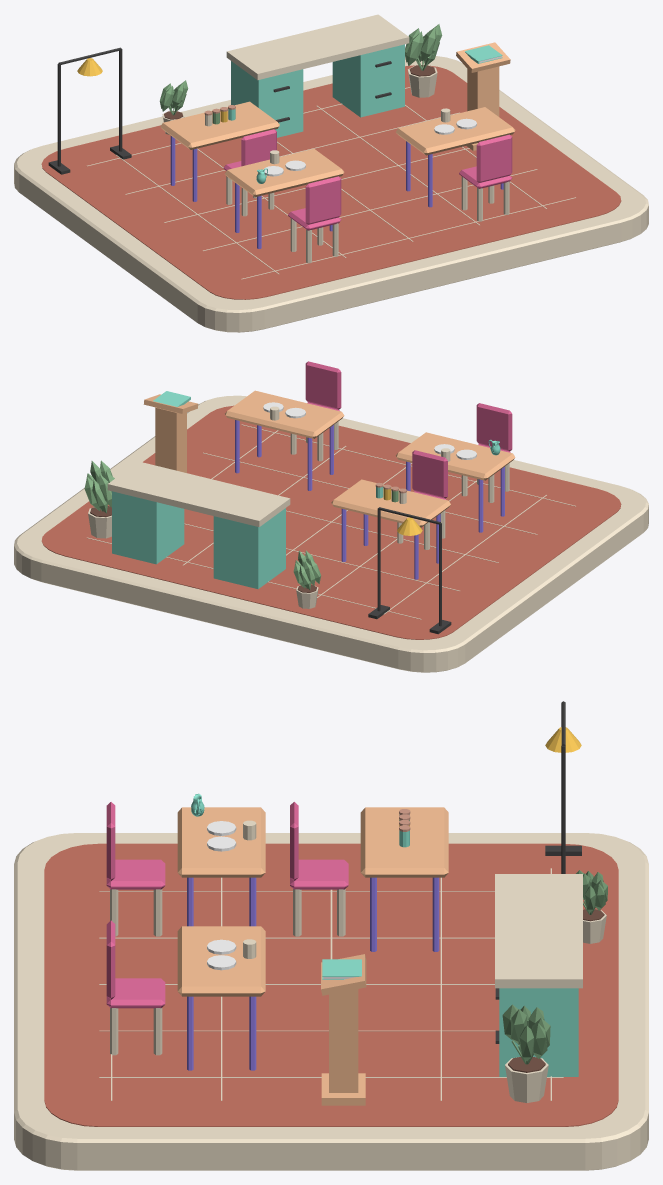
File: room.fbx
The picture shows the model from 3 angles, top to bottom: view 1: azimuth 30°, elevation 25°; view 2: azimuth 150°, elevation 25°; view 3: azimuth 270°, elevation 25°; orthographic projection. The views are drawn at different scales.
Visible parts, largest first — view 1: COM-02 Floor Surface, COM-01 Rounded Base Direct, Worktop, Storage module.001, Storage module, Rounded table top.001, Rounded table top.002, Rounded table top, Pot, Backrest, Backrest.001, Body (+3 smaller); view 2: COM-02 Floor Surface, COM-01 Rounded Base Direct, Worktop, Storage module, Storage module.001, Rounded table top.001, Rounded table top.002, Rounded table top, Body, Pot, Backrest.001, Backrest.002 (+2 smaller); view 3: COM-02 Floor Surface, COM-01 Rounded Base Direct, Worktop, Rounded table top.002, Rounded table top.001, Rounded table top, Storage module.001, Pot, Body, Seat, Seat.001, Seat.002 (+8 smaller).
Boxes of the visible parts, x1=… form: COM-02 Floor Surface: x1=41, y1=65, x2=621, y2=299; COM-01 Rounded Base Direct: x1=14, y1=56, x2=648, y2=332; Worktop: x1=226, y1=14, x2=409, y2=80; Storage module.001: x1=332, y1=44, x2=404, y2=117; Storage module: x1=231, y1=61, x2=303, y2=137; Rounded table top.001: x1=396, y1=107, x2=515, y2=155; Rounded table top.002: x1=160, y1=101, x2=279, y2=149; Rounded table top: x1=225, y1=149, x2=344, y2=197; Pot: x1=405, y1=24, x2=442, y2=97; Backrest: x1=305, y1=176, x2=341, y2=224; Backrest.001: x1=476, y1=134, x2=512, y2=182; Body: x1=467, y1=66, x2=499, y2=116; COM-02 Floor Surface: x1=41, y1=405, x2=621, y2=639; COM-01 Rounded Base Direct: x1=14, y1=395, x2=648, y2=672; Worktop: x1=107, y1=461, x2=290, y2=527; Storage module: x1=213, y1=508, x2=285, y2=588; Storage module.001: x1=112, y1=491, x2=184, y2=564; Rounded table top.001: x1=225, y1=390, x2=344, y2=438; Rounded table top.002: x1=331, y1=479, x2=450, y2=527; Rounded table top: x1=396, y1=432, x2=515, y2=480; Body: x1=155, y1=407, x2=186, y2=472; Pot: x1=84, y1=460, x2=114, y2=538; Backrest.001: x1=305, y1=361, x2=341, y2=409; Backrest.002: x1=412, y1=450, x2=447, y2=498; COM-02 Floor Surface: x1=44, y1=843, x2=618, y2=1126; COM-01 Rounded Base Direct: x1=14, y1=833, x2=648, y2=1170; Worktop: x1=495, y1=874, x2=582, y2=988; Rounded table top.002: x1=360, y1=807, x2=448, y2=877; Rounded table top.001: x1=177, y1=926, x2=265, y2=996; Rounded table top: x1=177, y1=807, x2=265, y2=877; Storage module.001: x1=499, y1=988, x2=578, y2=1076; Pot: x1=502, y1=1004, x2=550, y2=1102; Body: x1=329, y1=989, x2=358, y2=1092; Seat: x1=106, y1=859, x2=165, y2=889; Seat.001: x1=106, y1=978, x2=165, y2=1008; Seat.002: x1=290, y1=859, x2=348, y2=889.
Size of the model in its own units: 600 by 166 by 520.
